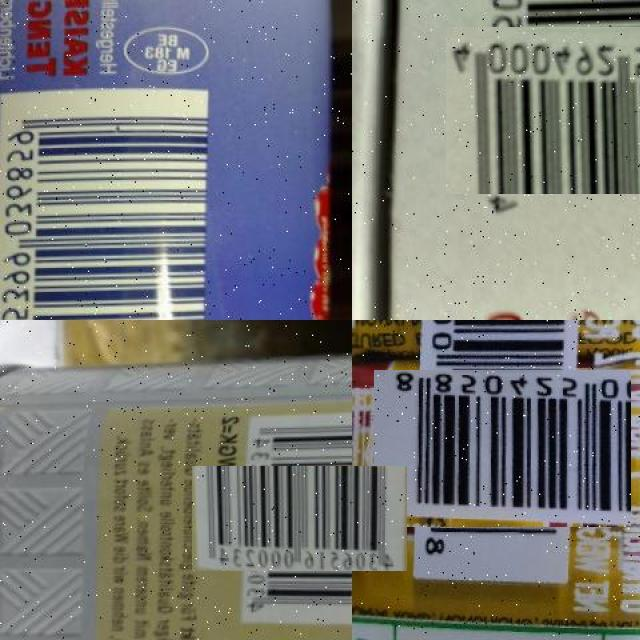Barcode: (0, 85, 219, 320), (398, 345, 606, 552), (459, 13, 640, 207), (219, 438, 380, 599)
